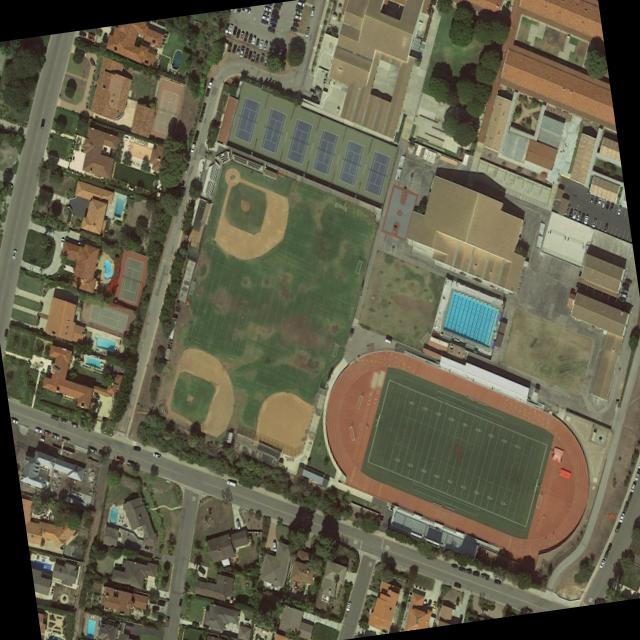small-vehicle: (227, 480, 237, 488), (193, 131, 200, 142), (235, 519, 242, 530), (609, 202, 616, 213), (615, 522, 622, 533), (12, 248, 18, 260), (198, 566, 206, 575), (127, 460, 136, 468), (59, 417, 68, 425), (207, 79, 214, 89), (244, 48, 250, 59), (251, 35, 257, 46), (247, 33, 253, 44), (228, 24, 234, 35), (236, 45, 242, 56), (190, 142, 196, 153), (346, 601, 352, 612), (589, 194, 595, 205), (572, 209, 578, 220), (569, 207, 575, 218), (268, 26, 276, 34), (261, 18, 269, 26), (90, 58, 97, 67), (40, 119, 47, 128), (426, 599, 433, 608), (191, 622, 200, 629), (481, 573, 490, 580), (153, 452, 162, 459), (51, 414, 60, 421), (88, 446, 97, 453), (243, 31, 249, 41), (239, 30, 245, 40), (248, 50, 254, 60), (4, 329, 10, 339), (600, 559, 606, 569), (584, 215, 590, 225), (580, 212, 585, 224), (576, 210, 581, 222), (617, 206, 623, 216), (631, 483, 637, 493), (270, 18, 278, 25), (272, 13, 280, 20), (262, 15, 270, 22), (88, 32, 96, 39), (451, 562, 459, 569), (494, 579, 502, 586), (44, 430, 52, 437), (116, 457, 124, 464), (52, 432, 60, 439), (454, 582, 462, 589), (309, 90, 317, 97), (618, 297, 626, 304), (622, 283, 630, 290), (625, 278, 632, 286), (259, 39, 264, 50), (251, 51, 256, 62), (236, 28, 241, 39), (227, 42, 232, 53), (305, 27, 310, 38), (604, 549, 609, 560), (592, 217, 597, 228), (205, 88, 211, 97), (61, 438, 70, 444), (70, 423, 79, 429), (601, 200, 607, 209), (255, 54, 260, 64), (278, 49, 283, 59), (263, 41, 268, 51), (240, 48, 245, 58), (310, 7, 315, 17), (232, 44, 237, 54), (102, 32, 107, 42), (432, 602, 437, 612), (181, 180, 186, 190), (60, 238, 65, 248), (594, 196, 599, 206), (604, 223, 609, 233), (635, 472, 640, 482), (620, 513, 625, 523), (473, 570, 480, 577), (297, 2, 305, 8), (263, 11, 271, 17), (264, 7, 272, 13), (87, 36, 95, 42), (134, 446, 142, 452), (459, 566, 467, 572), (620, 292, 628, 298), (621, 288, 629, 294), (255, 38, 260, 47), (201, 104, 206, 113), (178, 598, 183, 607), (606, 201, 611, 210), (598, 197, 603, 206), (628, 493, 633, 502), (624, 503, 629, 512), (261, 52, 265, 63), (272, 43, 276, 54), (273, 541, 277, 552), (295, 9, 302, 15), (269, 22, 276, 28), (294, 18, 300, 25), (293, 22, 300, 28), (291, 27, 298, 33), (233, 26, 237, 36), (465, 569, 473, 574), (296, 5, 303, 10), (294, 15, 301, 20), (35, 428, 42, 433), (273, 9, 280, 14), (199, 114, 203, 122), (608, 543, 612, 550)
